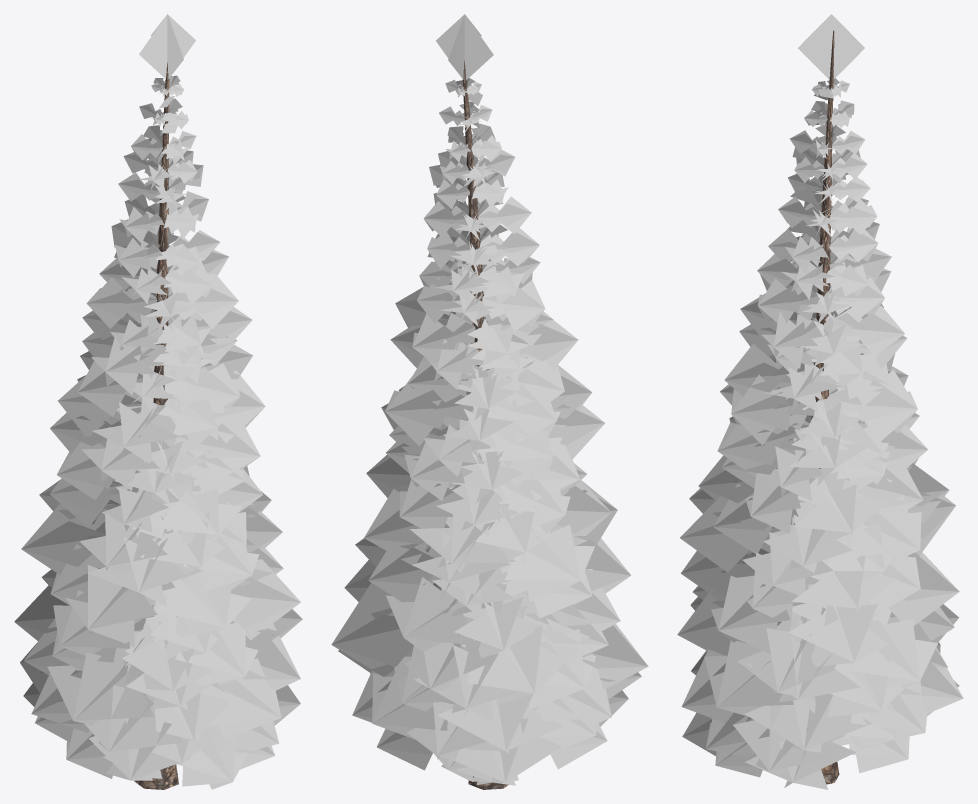
File: spruce_dense.gltf
3 renders of one model, left to right at view 1: azimuth 30°, elevation 25°; view 2: azimuth 150°, elevation 25°; view 3: azimuth 270°, elevation 25°, orthographic.
Parts seen in each view (by area): view 1: SpruceDense; view 2: SpruceDense; view 3: SpruceDense.
Boxes of the visible parts, x1,y1,x2,y2 form: SpruceDense: (14,14,302,789); SpruceDense: (331,14,648,789); SpruceDense: (677,14,963,789).
Size of the model in its own units: 1.77 by 5.1 by 1.72.
